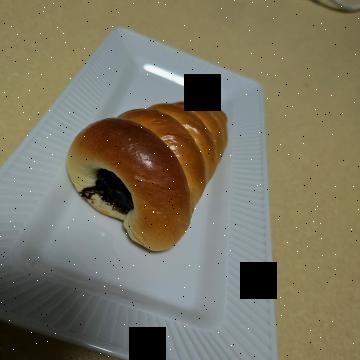cream horn: (77, 117, 277, 305)
